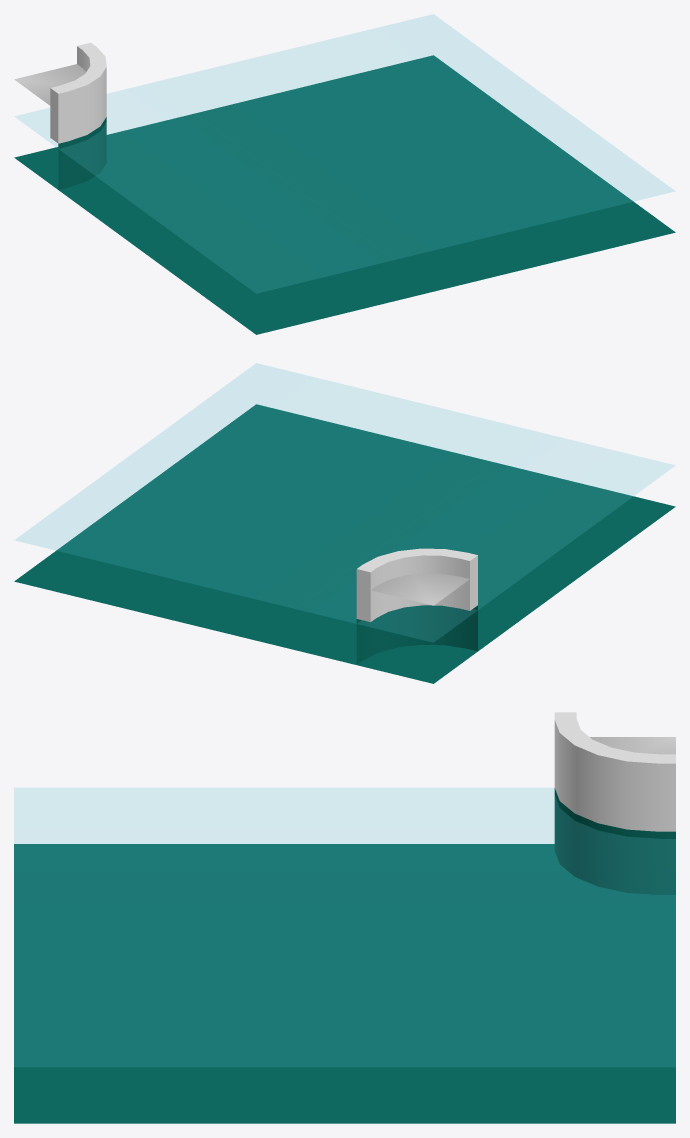
The model's file is Water_13.glb.
3 renders of one model, top to bottom at view 1: azimuth 30°, elevation 25°; view 2: azimuth 150°, elevation 25°; view 3: azimuth 270°, elevation 25°, orthographic. The views are drawn at different scales.
Parts seen in each view (by area): view 1: Water_13; view 2: Water_13; view 3: Water_13.
Part boxes in pixels (box(x1,y1,x2,y2)): Water_13: box(14, 14, 675, 334); Water_13: box(14, 363, 675, 683); Water_13: box(14, 712, 675, 1123).
Size of the model in its own units: 15 by 3.29 by 15.
Materials: 2 (2 with a texture image).
